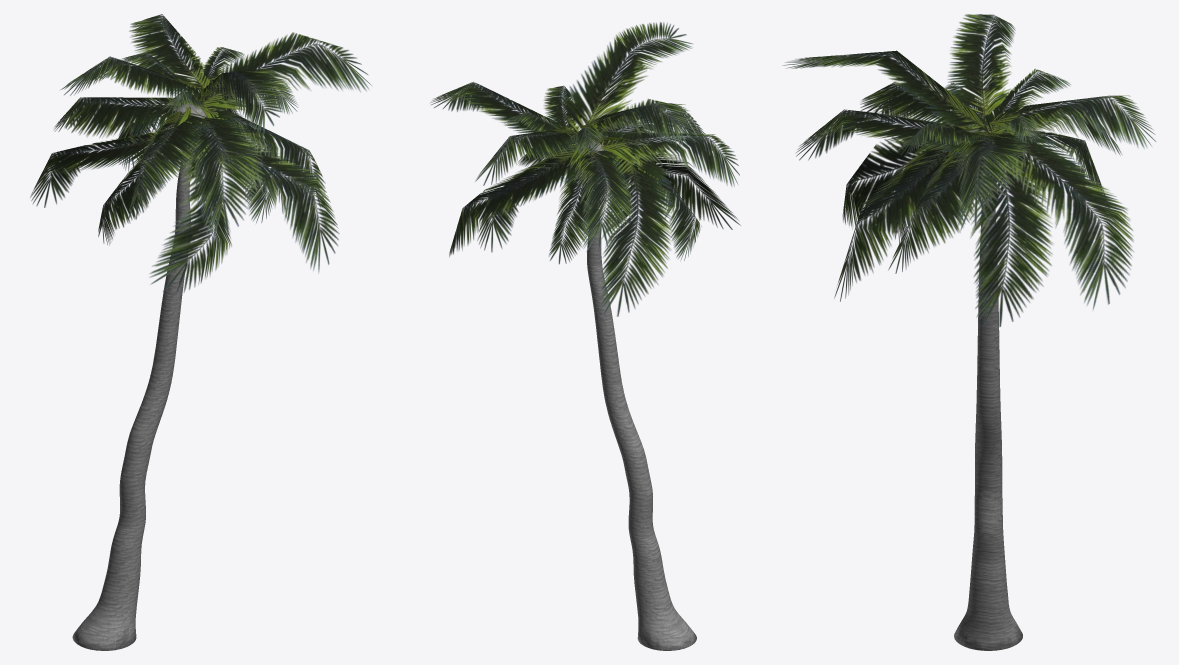
File: palm-short.lod0.glb
The picture shows the model from 3 angles, left to right: view 1: azimuth 30°, elevation 25°; view 2: azimuth 150°, elevation 25°; view 3: azimuth 270°, elevation 25°; orthographic projection. The views are drawn at different scales.
Visible parts, largest first — view 1: Cylinder.001_Material.002_0, Cylinder.001_Material.001_0; view 2: Cylinder.001_Material.002_0, Cylinder.001_Material.001_0; view 3: Cylinder.001_Material.002_0, Cylinder.001_Material.001_0.
Boxes of the visible parts, box(x1,y1,x2,y2) form: Cylinder.001_Material.002_0: box(30, 14, 371, 292); Cylinder.001_Material.001_0: box(72, 104, 206, 650); Cylinder.001_Material.002_0: box(430, 22, 740, 316); Cylinder.001_Material.001_0: box(584, 141, 696, 650); Cylinder.001_Material.002_0: box(782, 14, 1155, 327); Cylinder.001_Material.001_0: box(954, 124, 1022, 650).
Bounding box in the file's own units: 2.57 × 4.45 × 2.47.
Materials: 2 (2 with a texture image).
